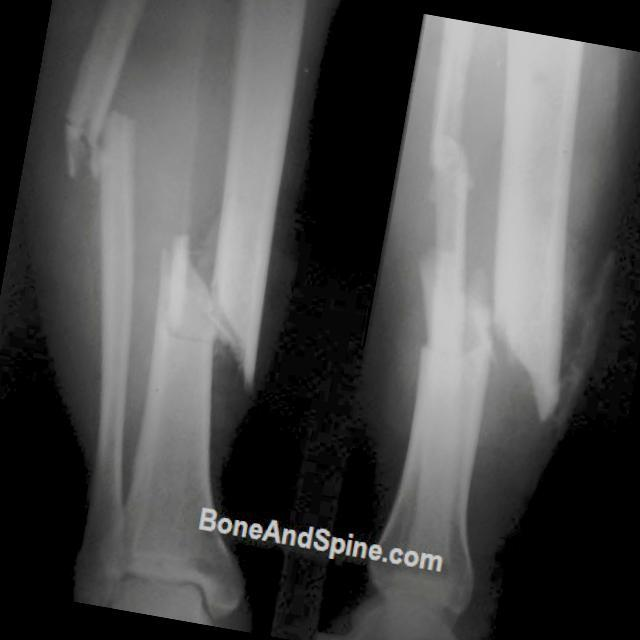Comminuted Fracture: (421, 281, 572, 428), (164, 240, 292, 404), (59, 89, 144, 181)
